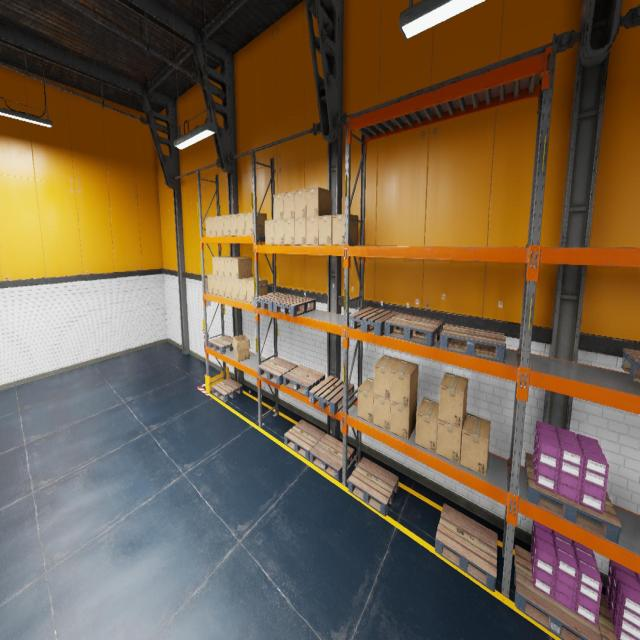box: (460, 412, 490, 477), (438, 372, 468, 429), (436, 415, 466, 464), (415, 398, 439, 452), (391, 360, 418, 408), (390, 395, 417, 440), (374, 355, 400, 400), (332, 214, 358, 245), (306, 187, 331, 217), (358, 378, 373, 423), (373, 394, 391, 431), (246, 278, 268, 303), (245, 212, 266, 235), (232, 335, 250, 361), (231, 257, 252, 279), (319, 215, 332, 245), (218, 256, 237, 276), (224, 257, 242, 278), (306, 216, 318, 245), (294, 189, 306, 218), (239, 277, 253, 301), (295, 217, 306, 245), (212, 256, 226, 276), (284, 191, 294, 219), (274, 193, 284, 219), (284, 218, 294, 244), (274, 219, 284, 244), (265, 220, 274, 244), (237, 213, 245, 235), (232, 278, 239, 300), (230, 214, 237, 236), (223, 214, 230, 236), (225, 277, 232, 298), (207, 274, 214, 294), (217, 216, 224, 236), (219, 277, 226, 296), (205, 217, 212, 236), (211, 216, 217, 236), (213, 276, 219, 295)
pallets: (525, 452, 621, 544), (514, 544, 601, 640), (435, 504, 497, 592), (348, 457, 398, 516), (440, 324, 506, 363), (310, 434, 354, 481), (384, 313, 444, 346), (284, 419, 326, 460), (309, 376, 354, 414), (349, 307, 399, 335), (283, 364, 325, 397), (258, 357, 297, 385), (273, 296, 316, 316), (598, 594, 616, 639), (211, 377, 243, 402), (621, 348, 640, 388), (254, 293, 294, 311), (208, 335, 233, 354)
